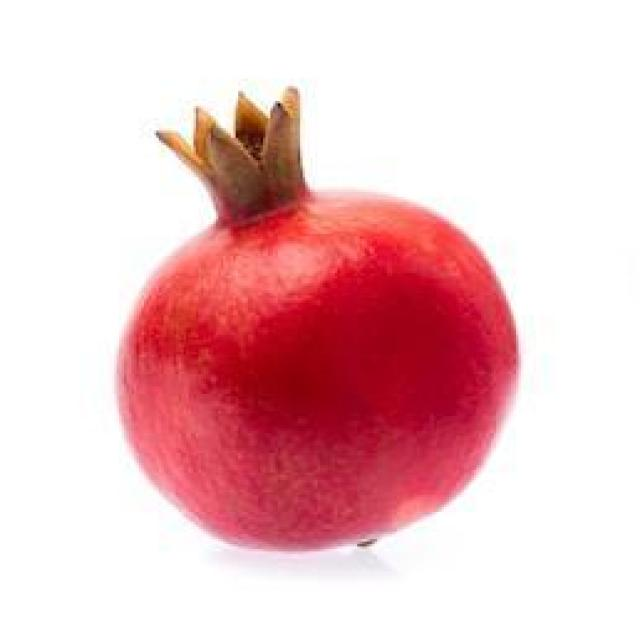Pomegranate: (110, 83, 524, 555)
